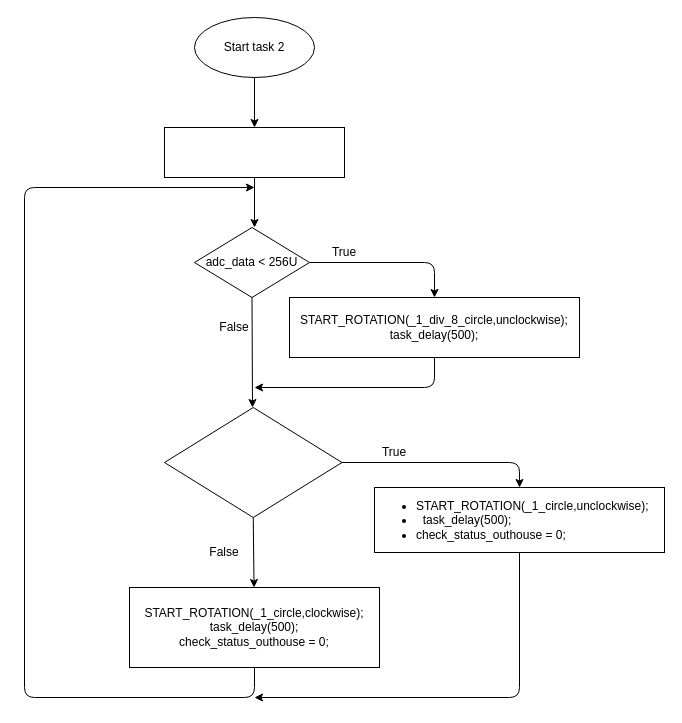
Image size: 682x723. Some labels were removed from this diagram. Each missing label, with the centre of its shape:
check_status_outhouse == OUTHOUSE_PULL: pixel 253 462
Khới tạo ADC với DMA Khởi tạo IC74HC595 adc_data = 0: pixel 254 152
